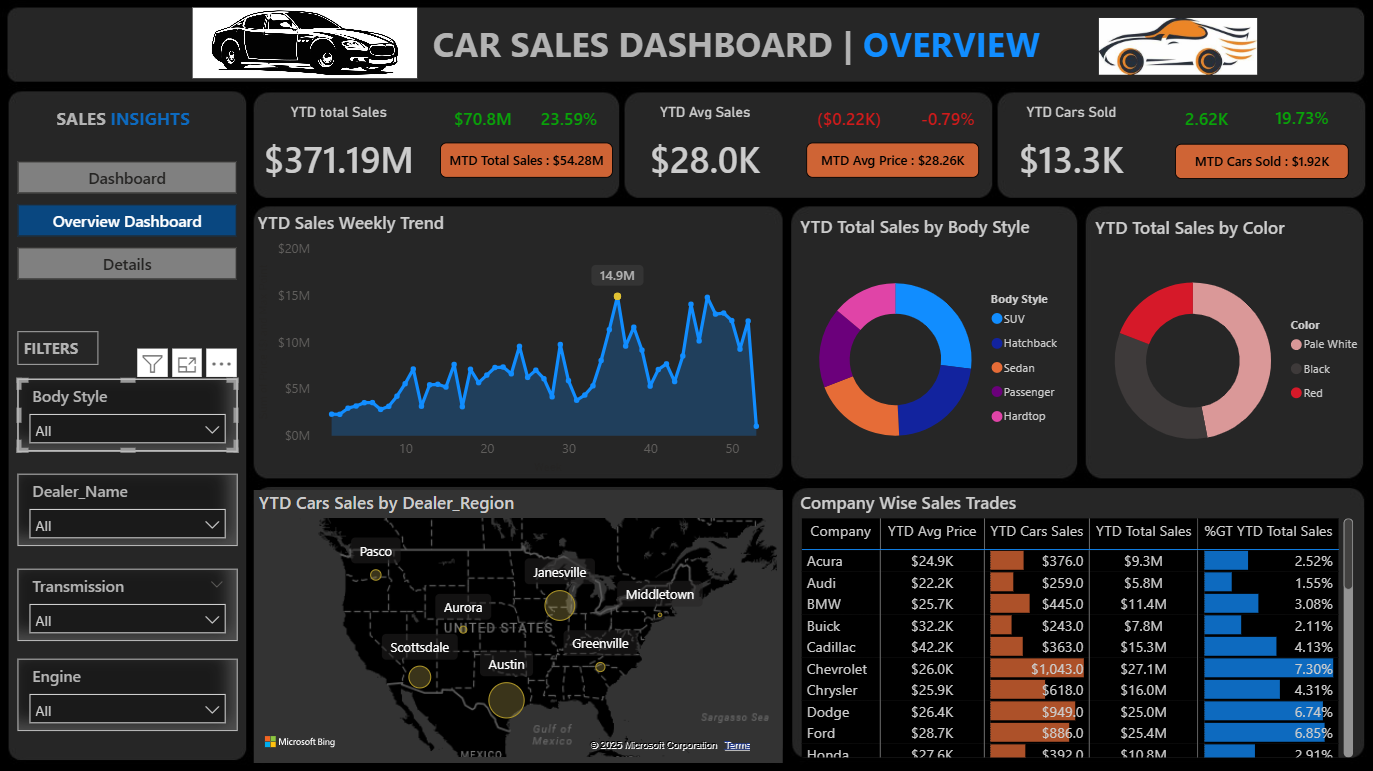

The page's visual inventory and layout, read from the dashboard file:
{"tool":"powerbi","page":{"name":"Overview Dashboard","canvas":[1280,720],"ordinal":1},"visuals":[{"type":"card","title":"YTD total Sales","fields":{"Values":["car_data.YTD Total Sales"]},"box":[189.5,96.5,251.2,89.5],"z":0},{"type":"card","fields":{"Values":["car_data.Sales Difference"]},"box":[397.7,96.5,103.5,31.4],"z":1000},{"type":"card","fields":{"Values":["car_data.YoY Sales Growth"]},"box":[477.9,96.5,103.5,31.4],"z":2000},{"type":"card","title":"MTD Total Sales","fields":{"Values":["car_data.MTD KPI"]},"box":[409,132.6,160.5,32.6],"z":3000},{"type":"card","title":"YTD Avg Sales","fields":{"Values":["car_data.YTD Avg Price"]},"box":[530.2,96.5,251.2,89.5],"z":4000},{"type":"card","fields":{"Values":["car_data.Avg Price Diff"]},"box":[738.4,96.5,103.5,31.4],"z":5000},{"type":"card","fields":{"Values":["car_data.YoY Avg Price Growth"]},"box":[830.2,96.5,103.5,31.4],"z":6000},{"type":"card","title":"MTD Total Sales","fields":{"Values":["car_data.MTD Avg Price KPI"]},"box":[750,132.6,160.5,32.6],"z":7000},{"type":"card","title":"YTD Cars Sold","fields":{"Values":["car_data.YTD Cars Sales"]},"box":[870.9,96.5,251.2,89.5],"z":8000},{"type":"card","fields":{"Values":["car_data.CArs Sold Diff"]},"box":[1070.9,96.5,103.5,31.4],"z":9000},{"type":"card","fields":{"Values":["car_data.YoY Car Sold Growth"]},"box":[1158.9,95.9,104.4,31.6],"z":10000},{"type":"card","title":"MTD Total Sales","fields":{"Values":["car_data.MTD Cars Sold KPI"]},"box":[1093.4,133.5,161.4,32.8],"z":11000},{"type":"areaChart","title":"YTD  Sales Weekly Trend","fields":{"Category":["Calendar Table.Week"],"Y":["Sum(car_data.Price ($))","car_data.Max Point"]},"box":[235.4,195.4,491.5,250],"z":12000},{"type":"donutChart","fields":{"Category":["car_data.Body Style"],"Y":["car_data.YTD Total Sales"]},"box":[739.5,195.3,258.1,250],"z":13000},{"type":"donutChart","title":"YTD Total Sales by Color","fields":{"Y":["car_data.YTD Total Sales"],"Category":["car_data.Color"]},"box":[1009.3,195.3,262.8,250],"z":14000},{"type":"map","fields":{"Category":["car_data.Dealer_Region"],"Size":["car_data.YTD Cars Sales"]},"box":[248.8,459.3,469.8,241.9],"z":15000},{"type":"tableEx","title":"Company Wise Sales Trades","fields":{"Values":["car_data.Company","car_data.YTD Avg Price","car_data.YTD Cars Sales","car_data.YTD Total Sales1","car_data.YTD Total Sales"]},"box":[739.5,455.8,524.4,253.5],"z":16000},{"type":"textbox","box":[397.7,18.6,530.2,48.8],"z":17000},{"type":"slicer","fields":{"Values":["car_data.Body Style"]},"box":[16.3,352.3,204.7,67.4],"z":18000},{"type":"slicer","fields":{"Values":["car_data.Dealer_Name"]},"box":[16.3,440.7,204.7,67.4],"z":19000},{"type":"slicer","fields":{"Values":["car_data.Transmission"]},"box":[16.3,529.1,204.7,67.4],"z":20000},{"type":"slicer","fields":{"Values":["car_data.Engine"]},"box":[16.3,612.8,204.7,67.4],"z":21000},{"type":"textbox","box":[16.3,308.1,75.6,31.4],"z":22000},{"type":"pageNavigator","box":[16.3,150,204.7,110.5],"z":23000},{"type":"textbox","box":[39.5,94.2,150,32.6],"z":24000},{"type":"image","box":[893,0,157,81.4],"z":25000}]}

Visuals, with their boxes in screenshot pixels (x1, y1, x2, y2), scaled from the page's 1280x720 canvas onto the 1373x771 screenshot:
"YTD total Sales" card: [203, 103, 473, 199]
card - car_data.Sales Difference: [427, 103, 538, 137]
card - car_data.YoY Sales Growth: [513, 103, 624, 137]
"MTD Total Sales" card: [439, 142, 611, 177]
"YTD Avg Sales" card: [569, 103, 838, 199]
card - car_data.Avg Price Diff: [792, 103, 903, 137]
card - car_data.YoY Avg Price Growth: [891, 103, 1002, 137]
"MTD Total Sales" card: [804, 142, 977, 177]
"YTD Cars Sold" card: [934, 103, 1204, 199]
card - car_data.CArs Sold Diff: [1149, 103, 1260, 137]
card - car_data.YoY Car Sold Growth: [1243, 103, 1355, 137]
"MTD Total Sales" card: [1173, 143, 1346, 178]
"YTD  Sales Weekly Trend" areaChart: [253, 209, 780, 477]
donutChart - car_data.Body Style x car_data.YTD Total Sales: [793, 209, 1070, 477]
"YTD Total Sales by Color" donutChart: [1083, 209, 1365, 477]
map - car_data.Dealer_Region x car_data.YTD Cars Sales: [267, 492, 771, 751]
"Company Wise Sales Trades" tableEx: [793, 488, 1356, 760]
textbox: [427, 20, 995, 72]
slicer - car_data.Body Style: [17, 377, 237, 449]
slicer - car_data.Dealer_Name: [17, 472, 237, 544]
slicer - car_data.Transmission: [17, 567, 237, 639]
slicer - car_data.Engine: [17, 656, 237, 728]
textbox: [17, 330, 99, 364]
pageNavigator: [17, 161, 237, 279]
textbox: [42, 101, 203, 136]
image: [958, 0, 1126, 87]
